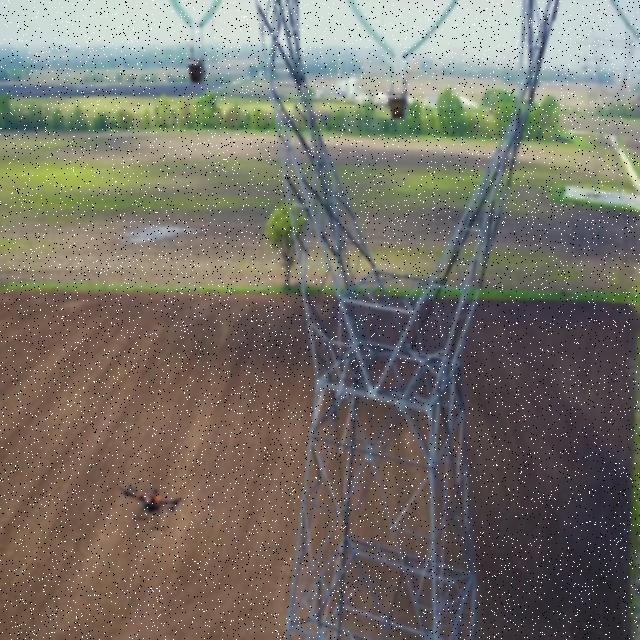UAV: (117, 484, 185, 532)
